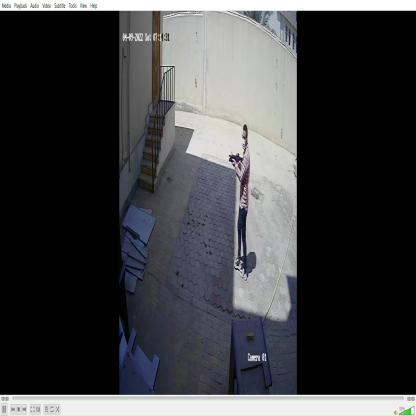handgun: (223, 147, 248, 178)
